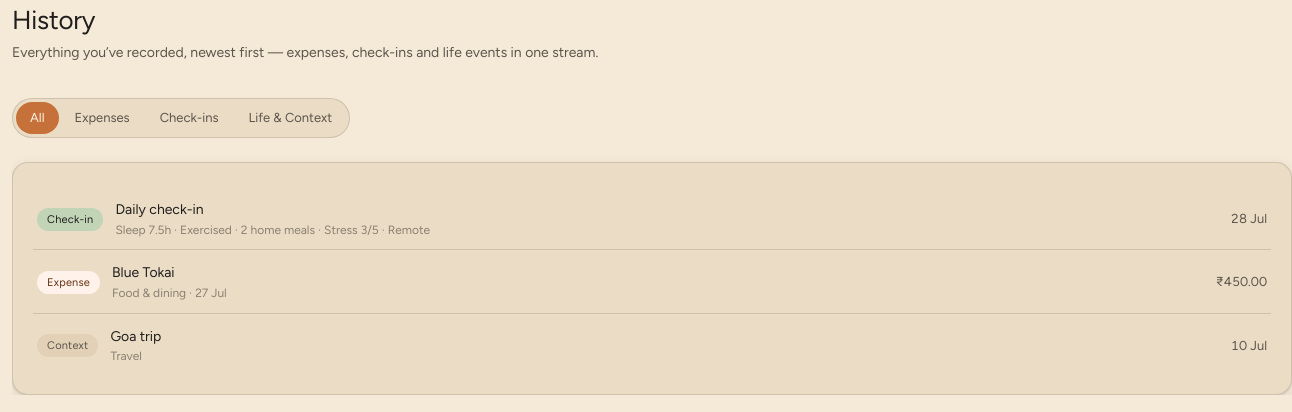
Test: History › filters the stream to a single record type
Check: the text "Blue Tokai" is shown, box [112, 264, 175, 281]
Click the button "Check-ins" at (189, 118), box [146, 102, 232, 134]
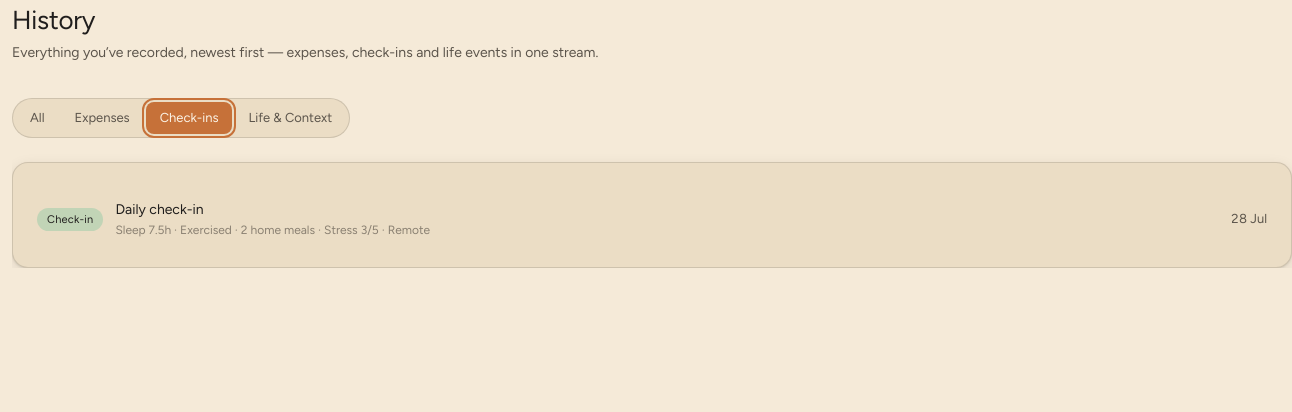
Check: the text "Daily check-in" is shown, box [115, 201, 204, 218]
Check: the text "Blue Tokai" is gone
Check: the text "Goa trip" is gone
